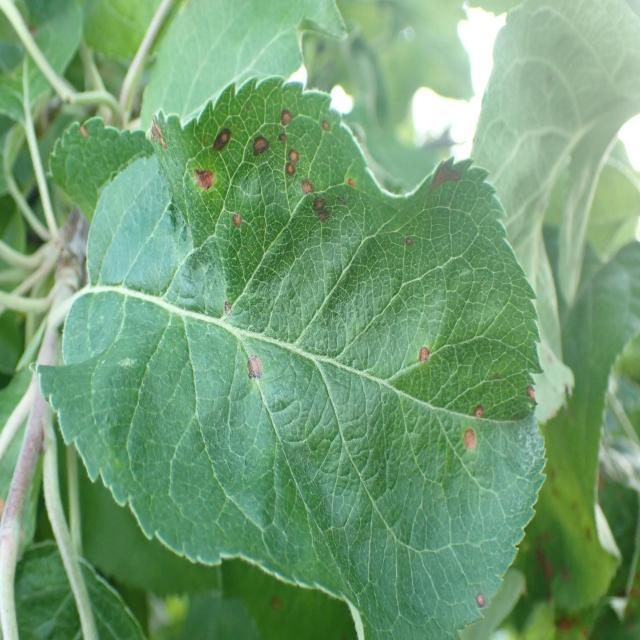Black Rot: (444, 397, 501, 461), (422, 160, 470, 210), (296, 175, 330, 236), (410, 322, 444, 371), (228, 192, 254, 242), (309, 108, 340, 149), (462, 574, 487, 622), (212, 122, 238, 166), (186, 161, 217, 197), (278, 139, 304, 181), (244, 351, 267, 394), (249, 129, 272, 163), (278, 106, 298, 132), (344, 175, 362, 194)
